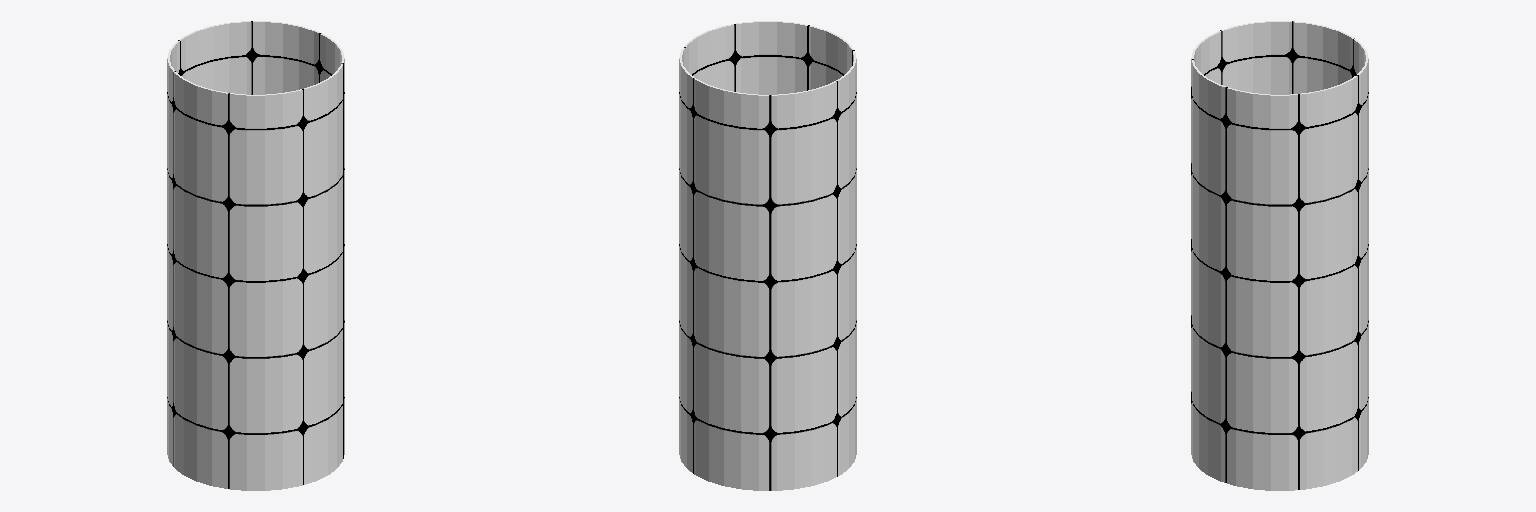
3 views of the same model, side by side, from view 1: azimuth 30°, elevation 25°; view 2: azimuth 150°, elevation 25°; view 3: azimuth 270°, elevation 25° (orthographic).
Parts seen in each view (by area): view 1: Tube; view 2: Tube; view 3: Tube.
Part boxes in pixels (x1,y1,x2,y2): Tube: (167,21,344,490); Tube: (679,21,856,490); Tube: (1191,21,1368,490).
Bounding box in the file's own units: 15.93 × 39.4 × 16.02.
1 materials, 1 textured.